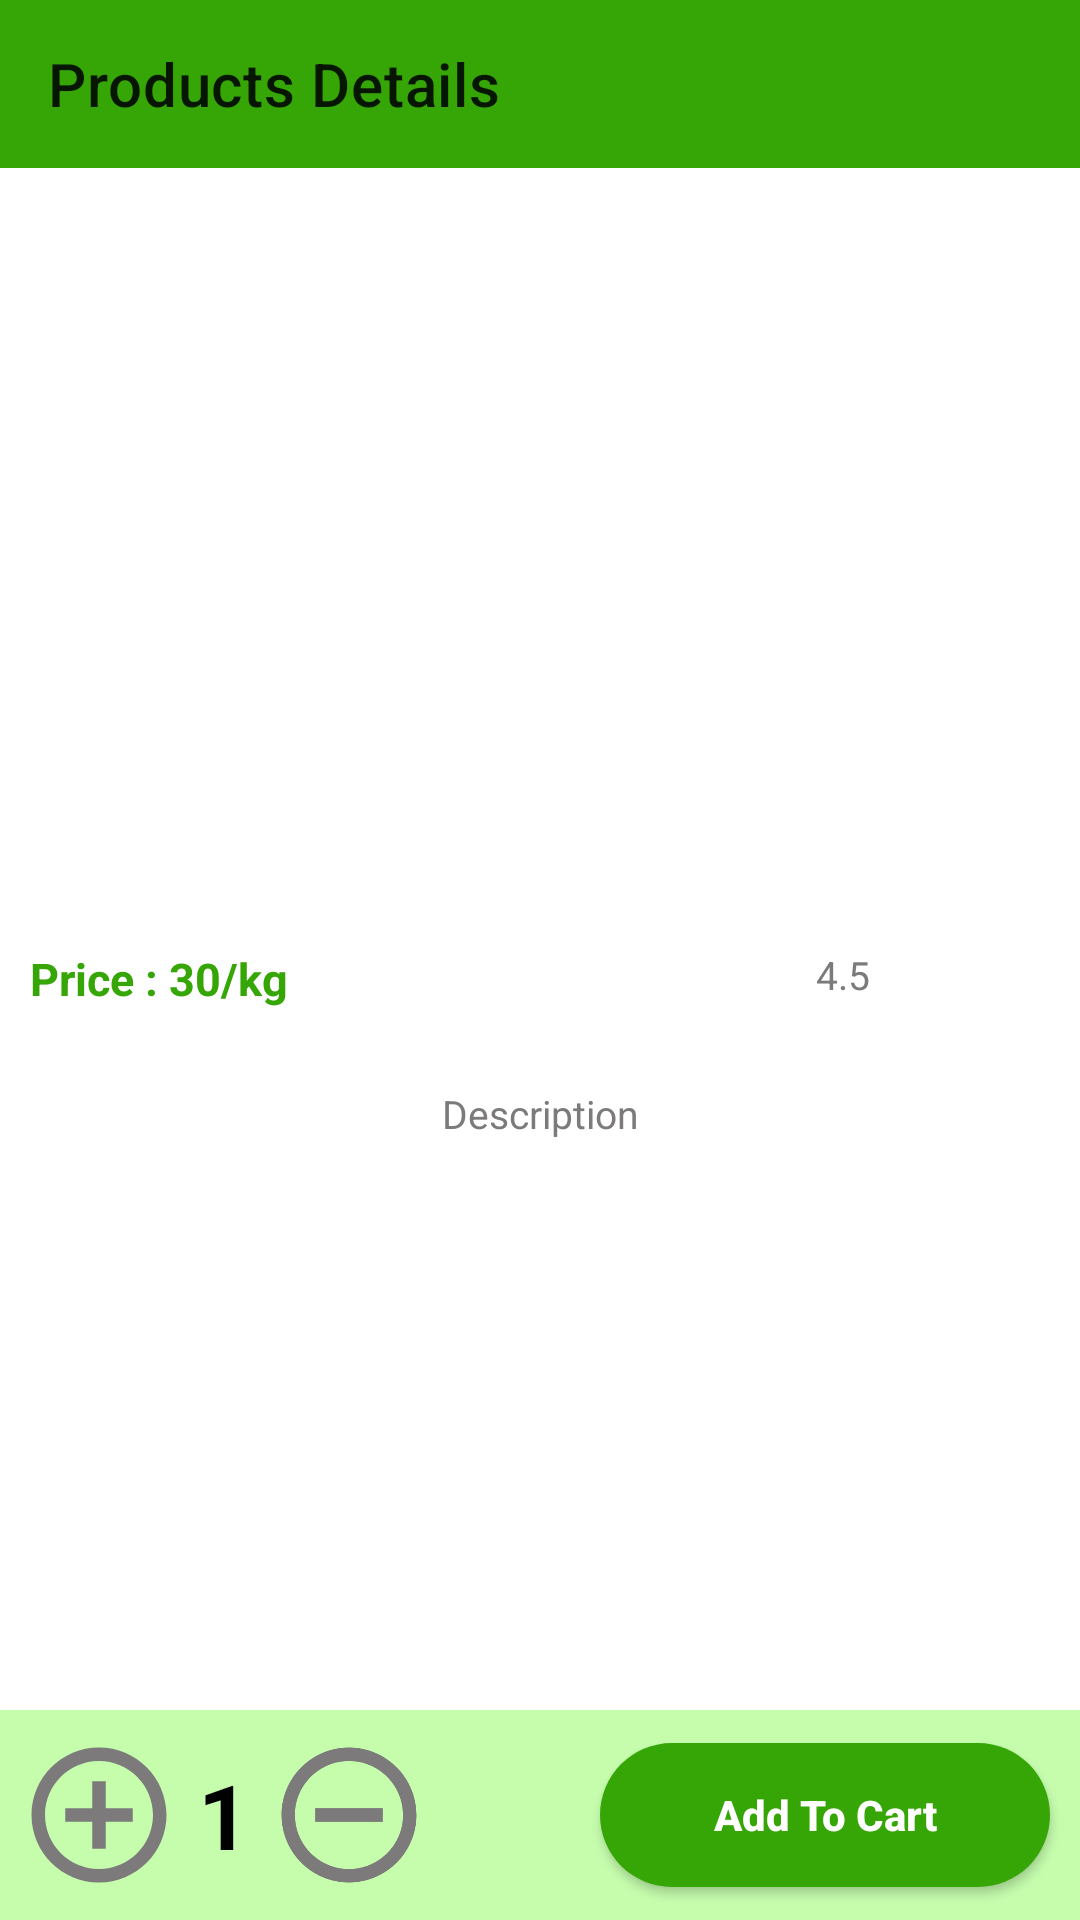

Named icons in this screenshot (1080w x 1920h) and their bounding boxes, (x1, y1, x2, y2):
add circle: (31, 1747, 167, 1883)
remove circle: (281, 1747, 417, 1883)
